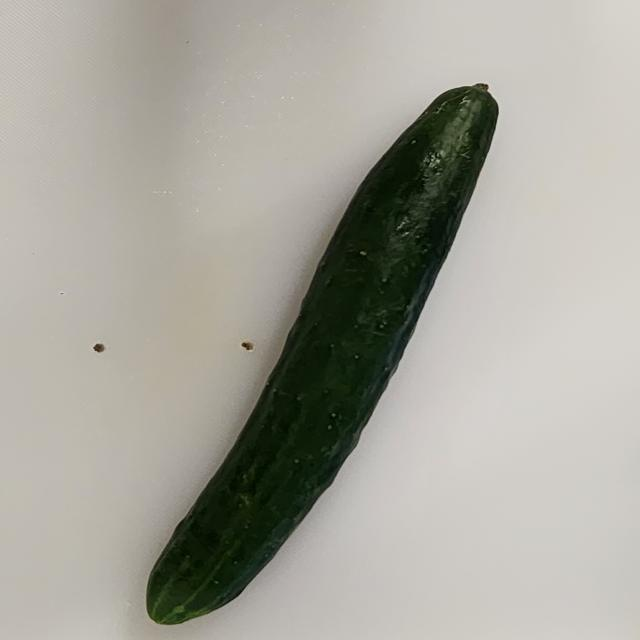cucumber: (144, 82, 499, 625)
